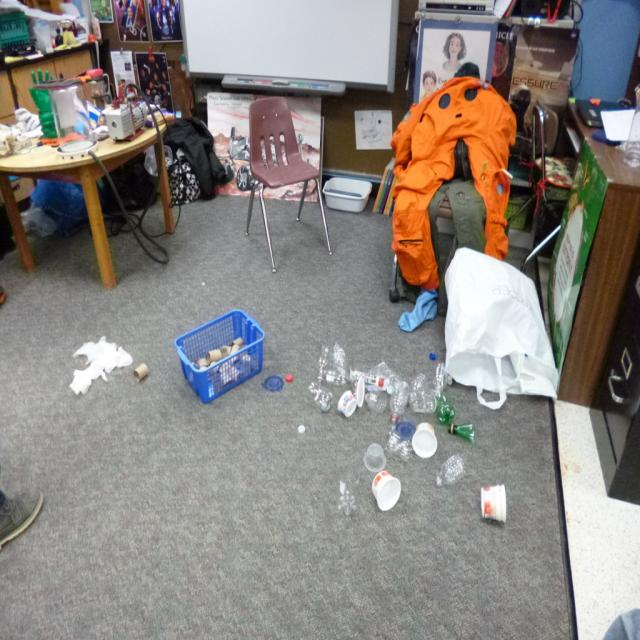chair: (245, 98, 333, 272)
desk: (2, 120, 166, 284)
person: (388, 71, 518, 334)
tv: (181, 1, 401, 93)
